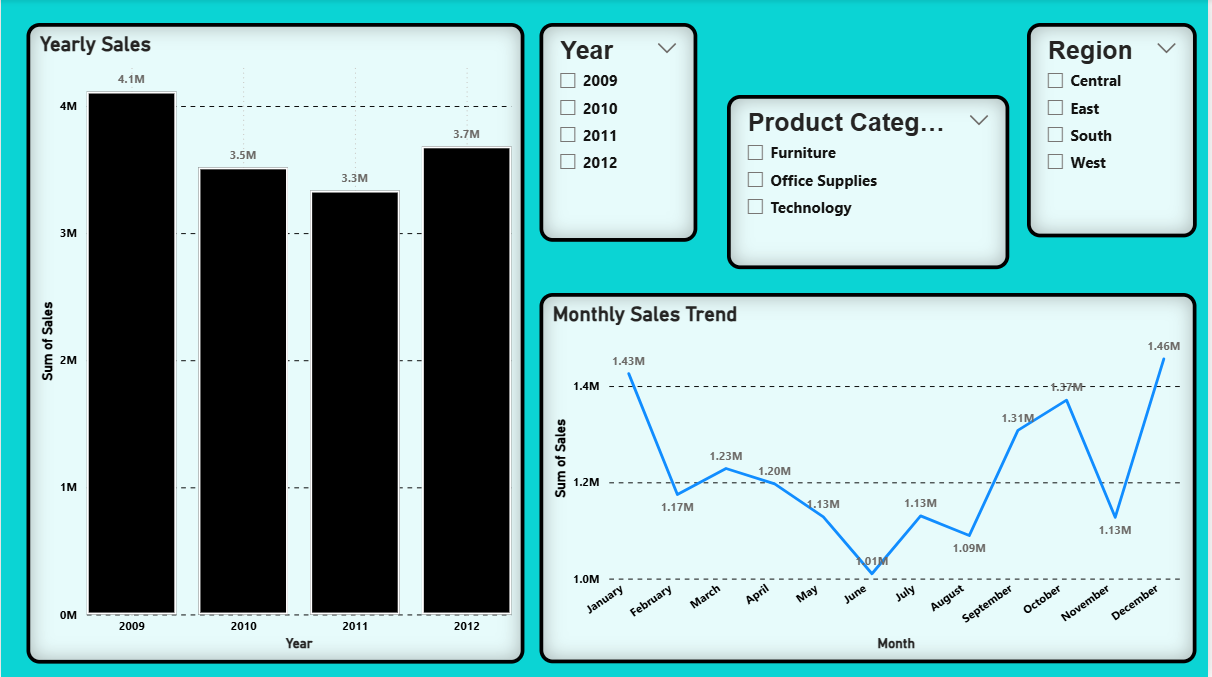

Layout of this report page (visuals, bound fields, positions):
{"tool":"powerbi","page":{"name":"Sales Trend","canvas":[1280,720],"ordinal":1},"visuals":[{"type":"lineChart","title":"Monthly Sales Trend","fields":{"Y":["Sum(Sample - Superstore Sales (Excel).Sales)"],"Category":["Sample - Superstore Sales (Excel).Order Date.Variation.Date Hierarchy.Month"]},"box":[571,311.8,696.7,392.9],"z":0},{"type":"columnChart","title":" Yearly Sales","fields":{"Category":["Sample - Superstore Sales (Excel).Order Date.Variation.Date Hierarchy.Year"],"Y":["Sum(Sample - Superstore Sales (Excel).Sales)"]},"box":[27,25.4,528.1,679.2],"z":1000},{"type":"slicer","fields":{"Values":["Sample - Superstore Sales (Excel).Order Date.Variation.Date Hierarchy.Year"]},"box":[571,25.4,167,232.2],"z":2000},{"type":"slicer","fields":{"Values":["Sample - Superstore Sales (Excel).Region"]},"box":[1088,25.4,179.7,227.5],"z":3000},{"type":"slicer","fields":{"Values":["Sample - Superstore Sales (Excel).Product Category"]},"box":[769.9,101.8,299,184.5],"z":4000}]}

Visuals, with their boxes in screenshot pixels (x1, y1, x2, y2), scaled from the page's 1280x720 canvas onto the 1212x677 screenshot:
"Monthly Sales Trend" lineChart: pyautogui.locateOnScreen(541, 293, 1200, 663)
" Yearly Sales" columnChart: pyautogui.locateOnScreen(26, 24, 526, 663)
slicer - Sample - Superstore Sales (Excel).Order Date.Variation.Date Hierarchy.Year: pyautogui.locateOnScreen(541, 24, 699, 242)
slicer - Sample - Superstore Sales (Excel).Region: pyautogui.locateOnScreen(1030, 24, 1200, 238)
slicer - Sample - Superstore Sales (Excel).Product Category: pyautogui.locateOnScreen(729, 96, 1012, 269)
